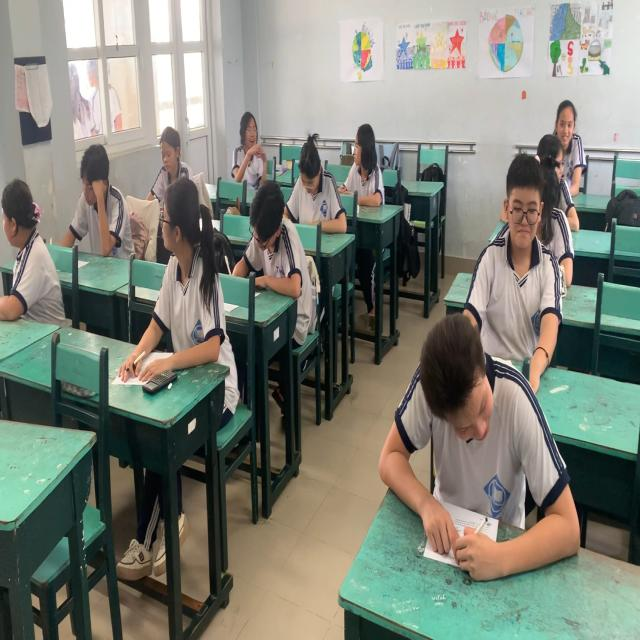cheating: (155, 180, 227, 347), (340, 119, 386, 208), (229, 98, 273, 190)
not_cheating: (396, 319, 557, 572), (480, 150, 561, 374), (0, 174, 71, 346), (64, 133, 135, 268), (242, 174, 303, 294), (287, 135, 346, 232), (549, 87, 589, 194), (151, 122, 194, 184)
